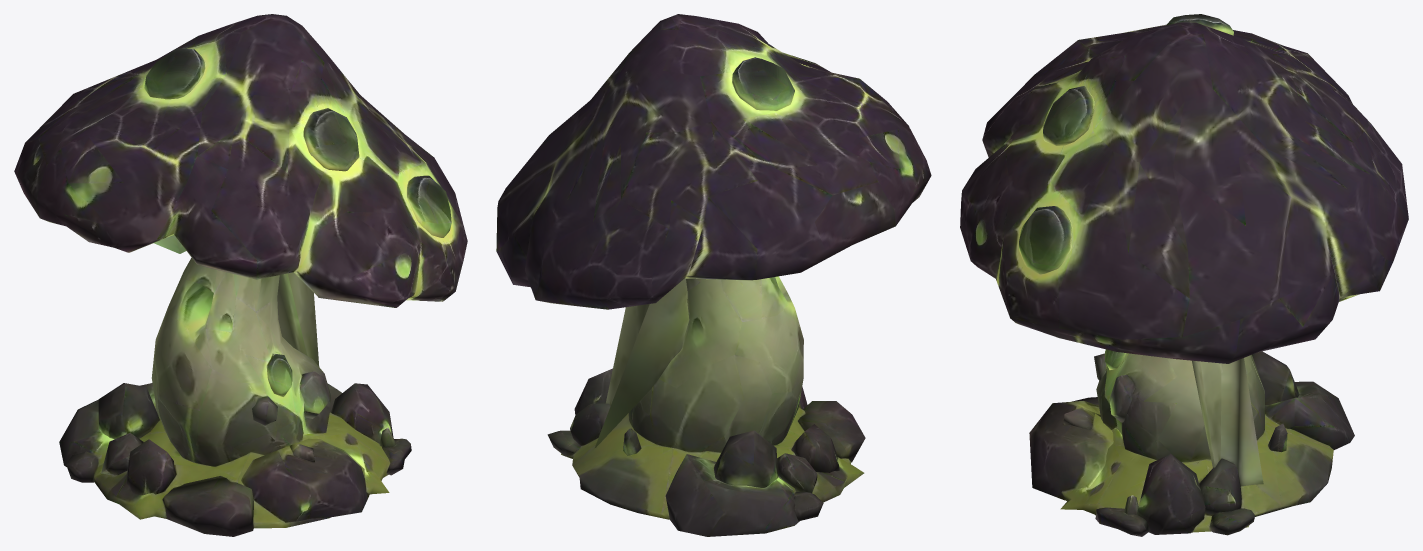
The model's file is toxic_mushroom_1.glb.
3 renders of one model, left to right at view 1: azimuth 30°, elevation 25°; view 2: azimuth 150°, elevation 25°; view 3: azimuth 270°, elevation 25°, orthographic. The views are drawn at different scales.
Size of the model in its own units: 0.9258 by 1 by 0.9102.
Materials: 1 (1 with a texture image).
